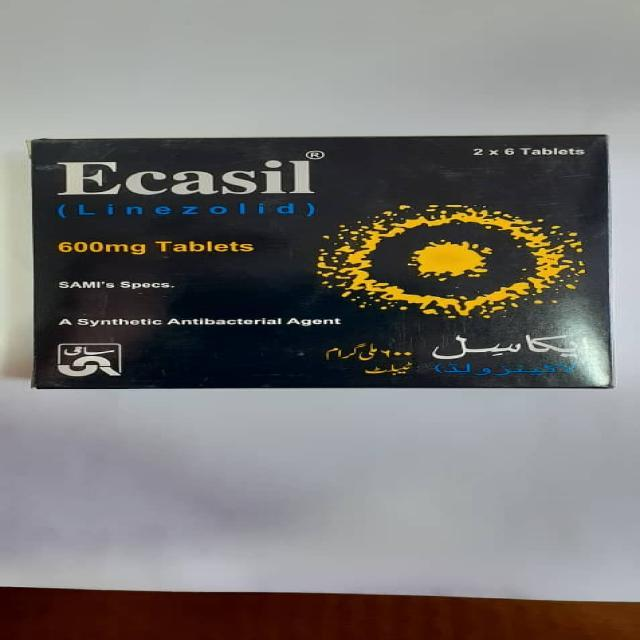drug-name: (56, 158, 314, 199)
